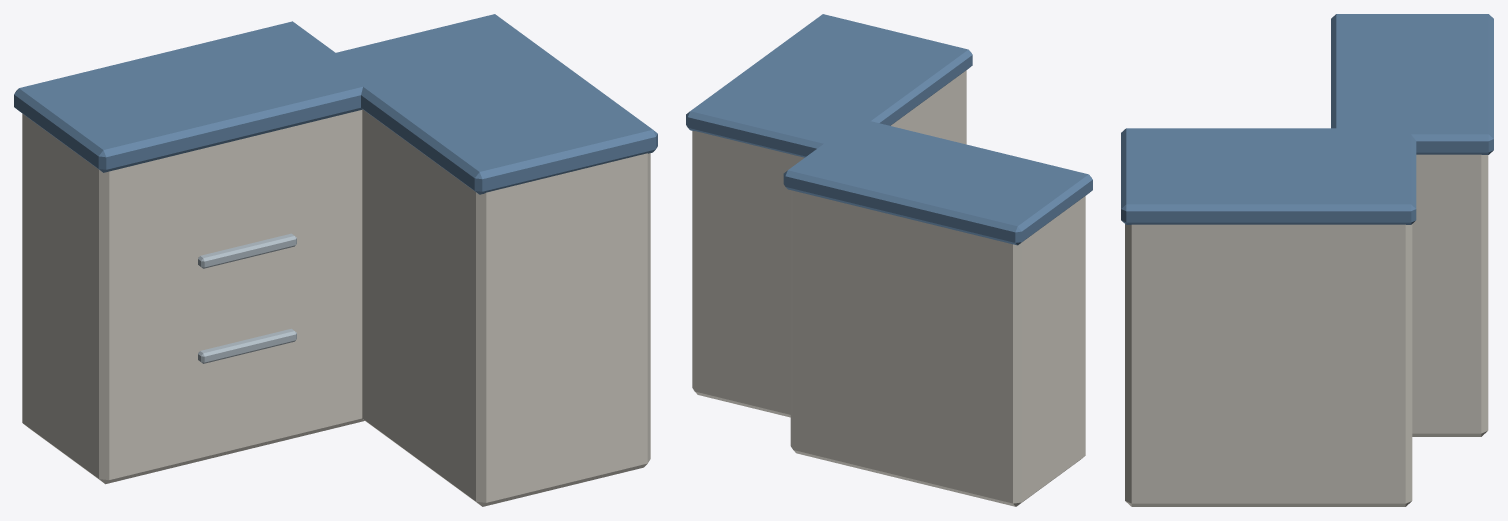
File: storage_06.glb
3 views of the same model, side by side, from view 1: azimuth 30°, elevation 25°; view 2: azimuth 150°, elevation 25°; view 3: azimuth 270°, elevation 25° (orthographic). The views are drawn at different scales.
Visible parts, largest first — view 1: CabinetLeft, CabinetRight, LTopRight, LTopLeft, Handle (×2); view 2: CabinetLeft, CabinetRight, LTopRight, LTopLeft; view 3: CabinetRight, LTopRight, CabinetLeft, LTopLeft.
Boxes of the visible parts, box(x1,y1,x2,y2) form: CabinetLeft: box(22, 110, 364, 484); CabinetRight: box(362, 109, 650, 506); LTopRight: box(322, 14, 657, 194); LTopLeft: box(14, 21, 376, 172); Handle (×2): box(198, 233, 296, 363); CabinetLeft: box(790, 190, 1085, 506); CabinetRight: box(692, 70, 966, 417); LTopRight: box(686, 14, 972, 157); LTopLeft: box(783, 118, 1092, 245); CabinetRight: box(1125, 224, 1412, 506); LTopRight: box(1121, 128, 1416, 224); CabinetLeft: box(1412, 154, 1488, 436); LTopLeft: box(1331, 14, 1493, 154).
Size of the model in its own units: 1.22 by 0.89 by 0.985.
